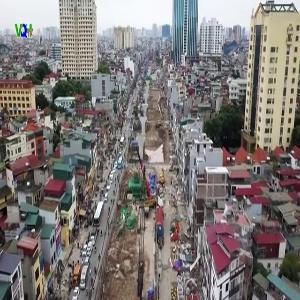drone: (212, 34, 252, 74)
